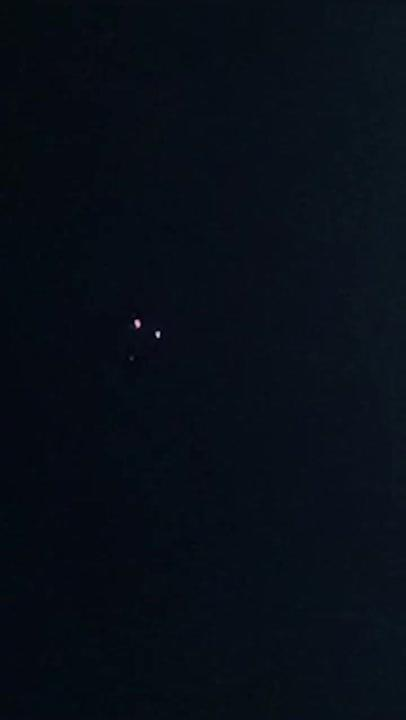Plane: (116, 308, 177, 364)
